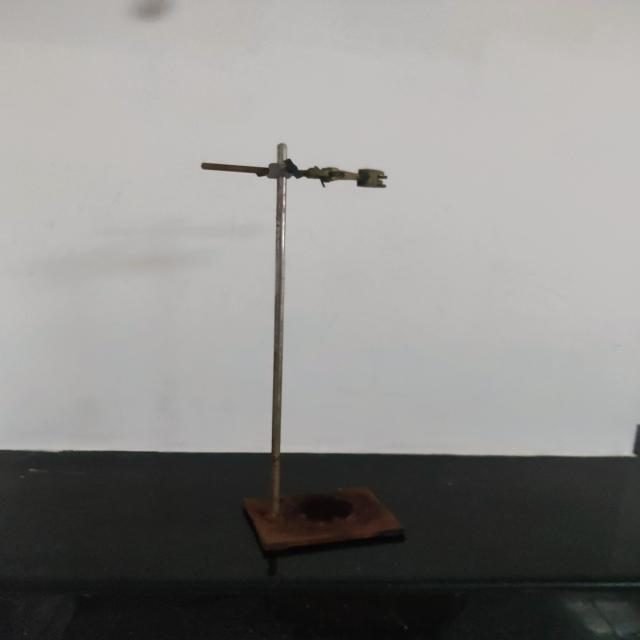Burette_Stands: (188, 126, 432, 598)
